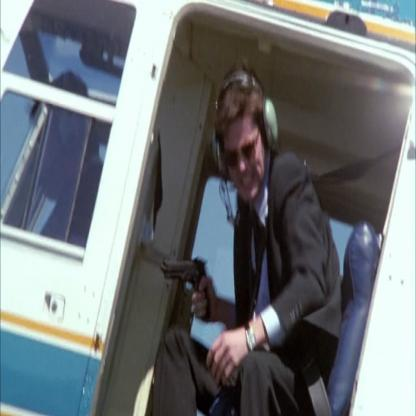gun: (164, 243, 219, 333)
